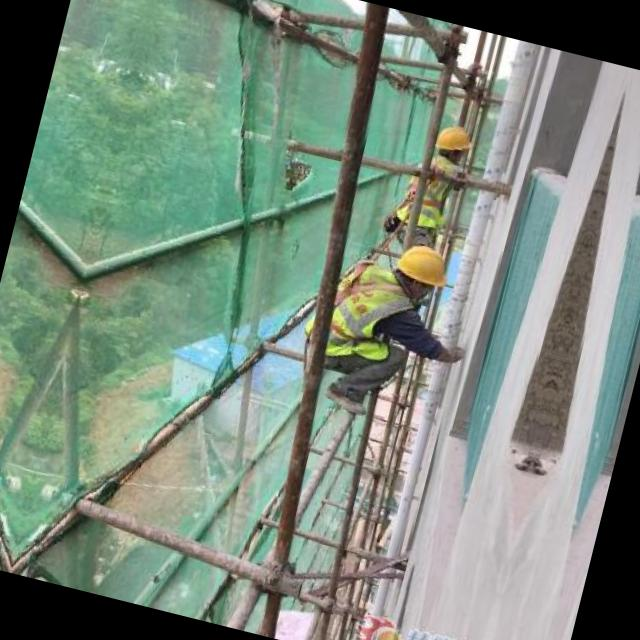helmet: (380, 234, 453, 308), (424, 116, 476, 177)
